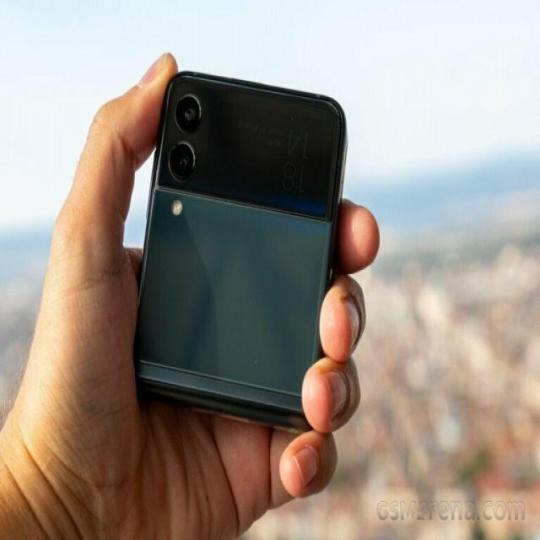phone: (136, 60, 355, 436)
